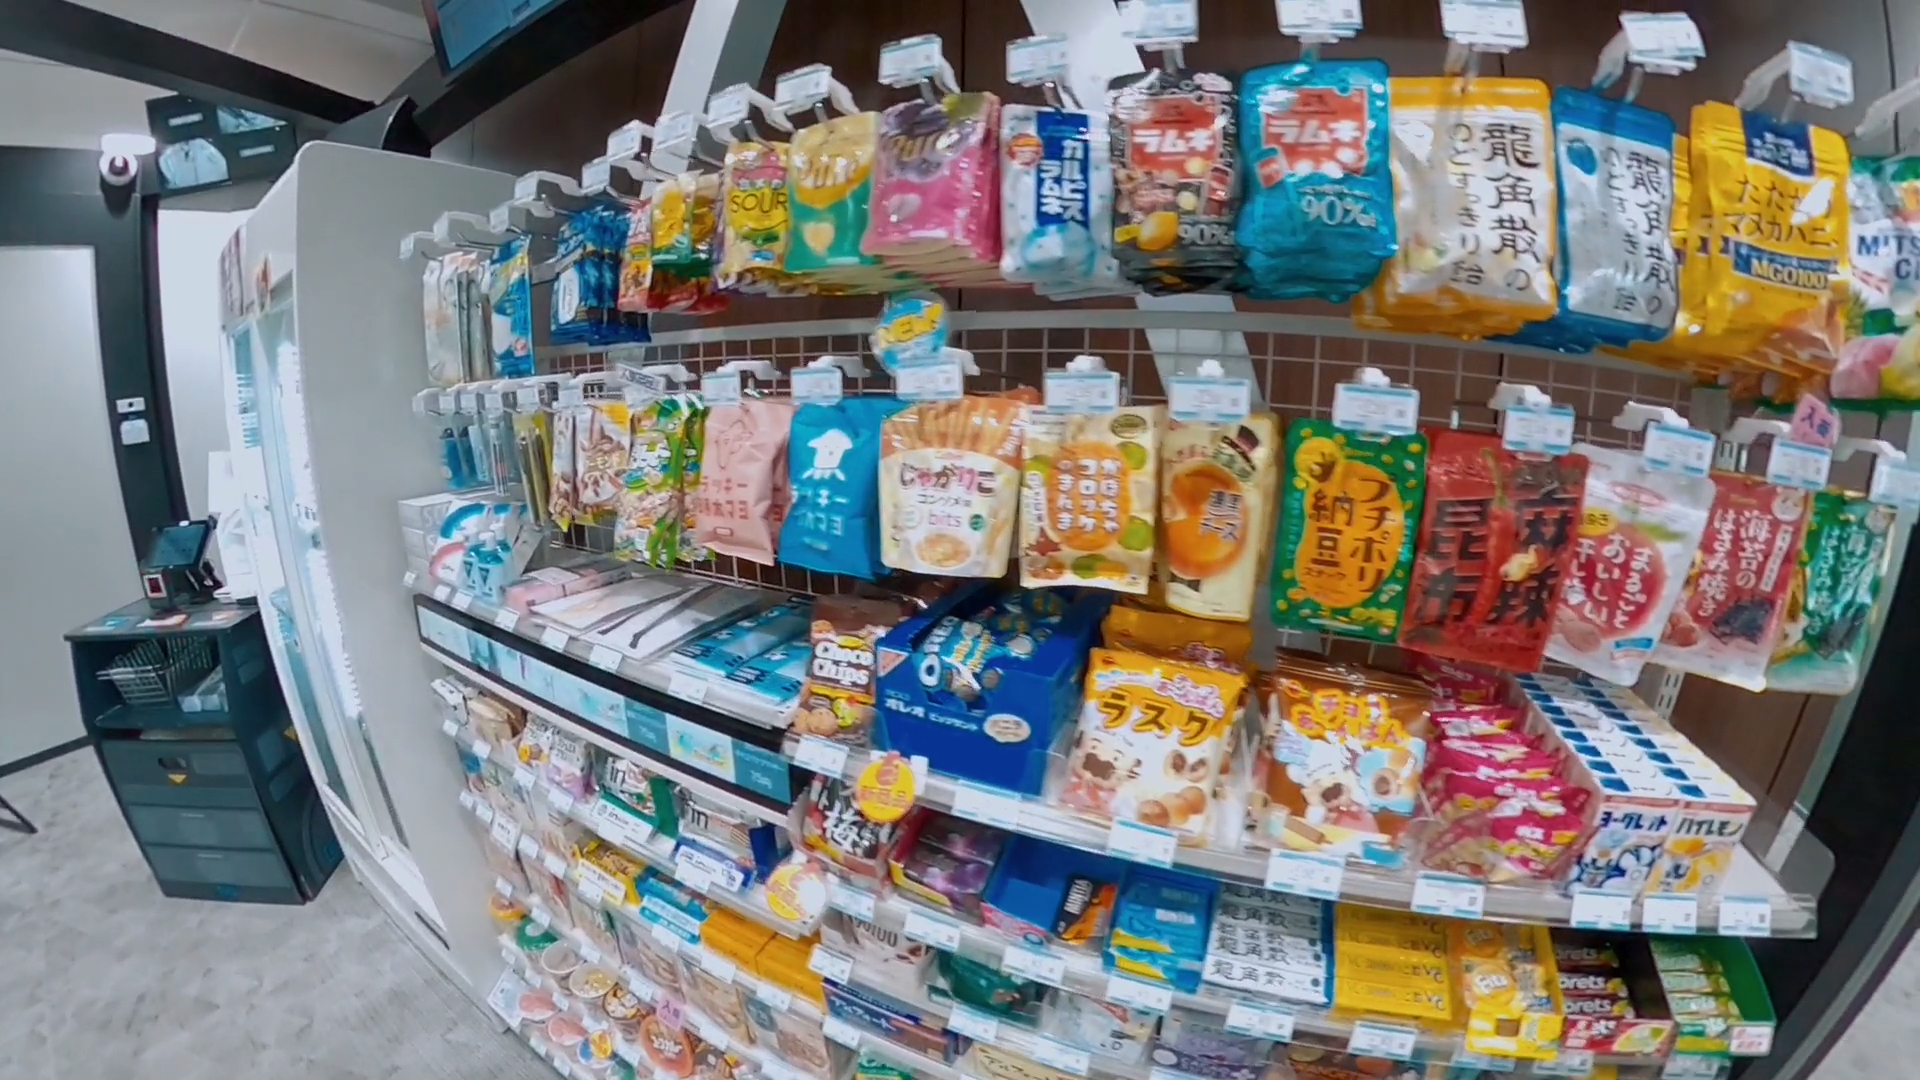NorinoHasamiyaki: (1768, 492, 1901, 694)
